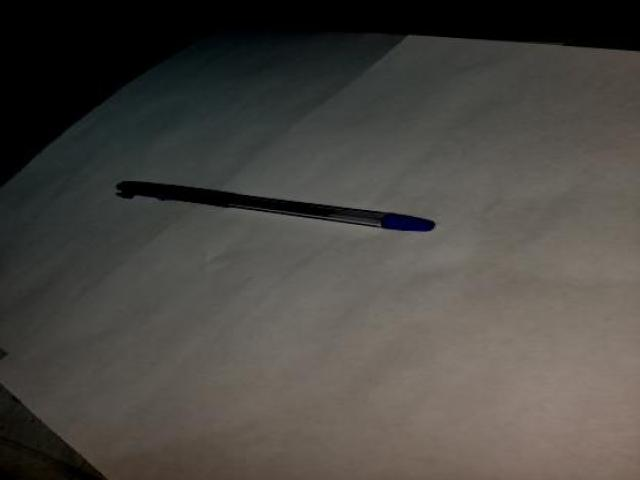PEN: (106, 168, 450, 249)
